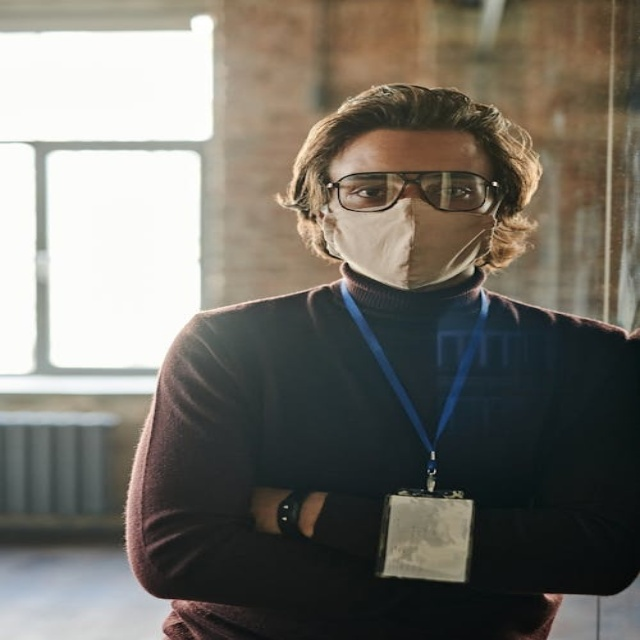Gafas: (318, 171, 504, 214)
Mascara: (322, 195, 494, 289)
